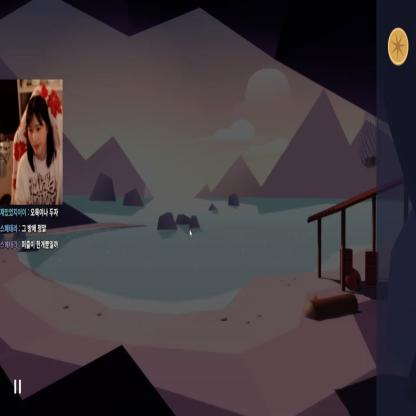streamer: (15, 95, 63, 203)
